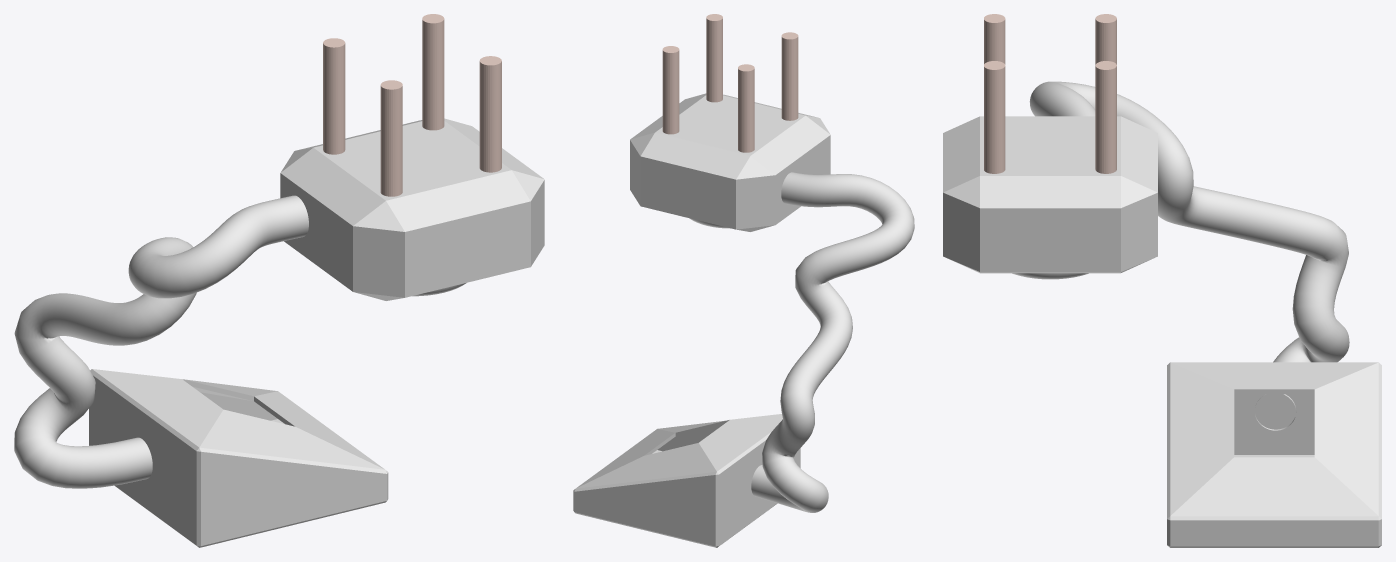
File: EnergyGenerator.fbx
3 renders of one model, left to right at view 1: azimuth 30°, elevation 25°; view 2: azimuth 150°, elevation 25°; view 3: azimuth 270°, elevation 25°, orthographic. The views are drawn at different scales.
Parts seen in each view (by area): view 1: Cube.002; view 2: Cube.002; view 3: Cube.002.
Part boxes in pixels (x1,y1,x2,y2): Cube.002: (14,14,544,547); Cube.002: (573,14,914,547); Cube.002: (943,14,1381,547).
Size of the model in its own units: 740 by 1005 by 817.
